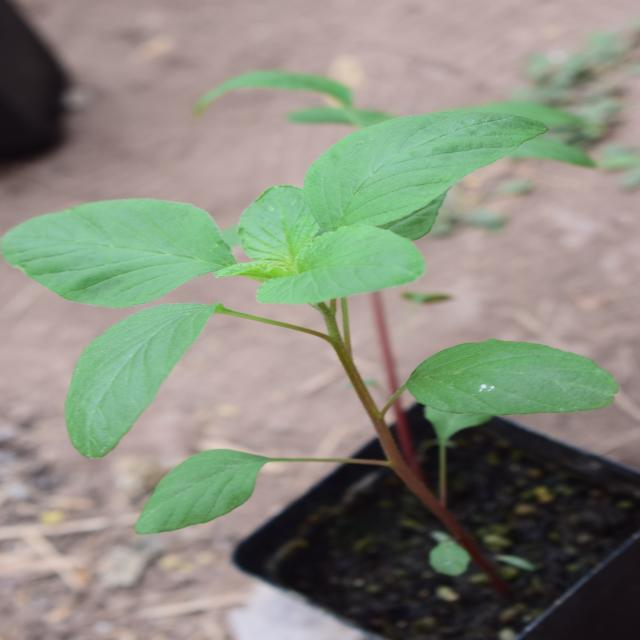pigweed: (111, 22, 574, 568)
